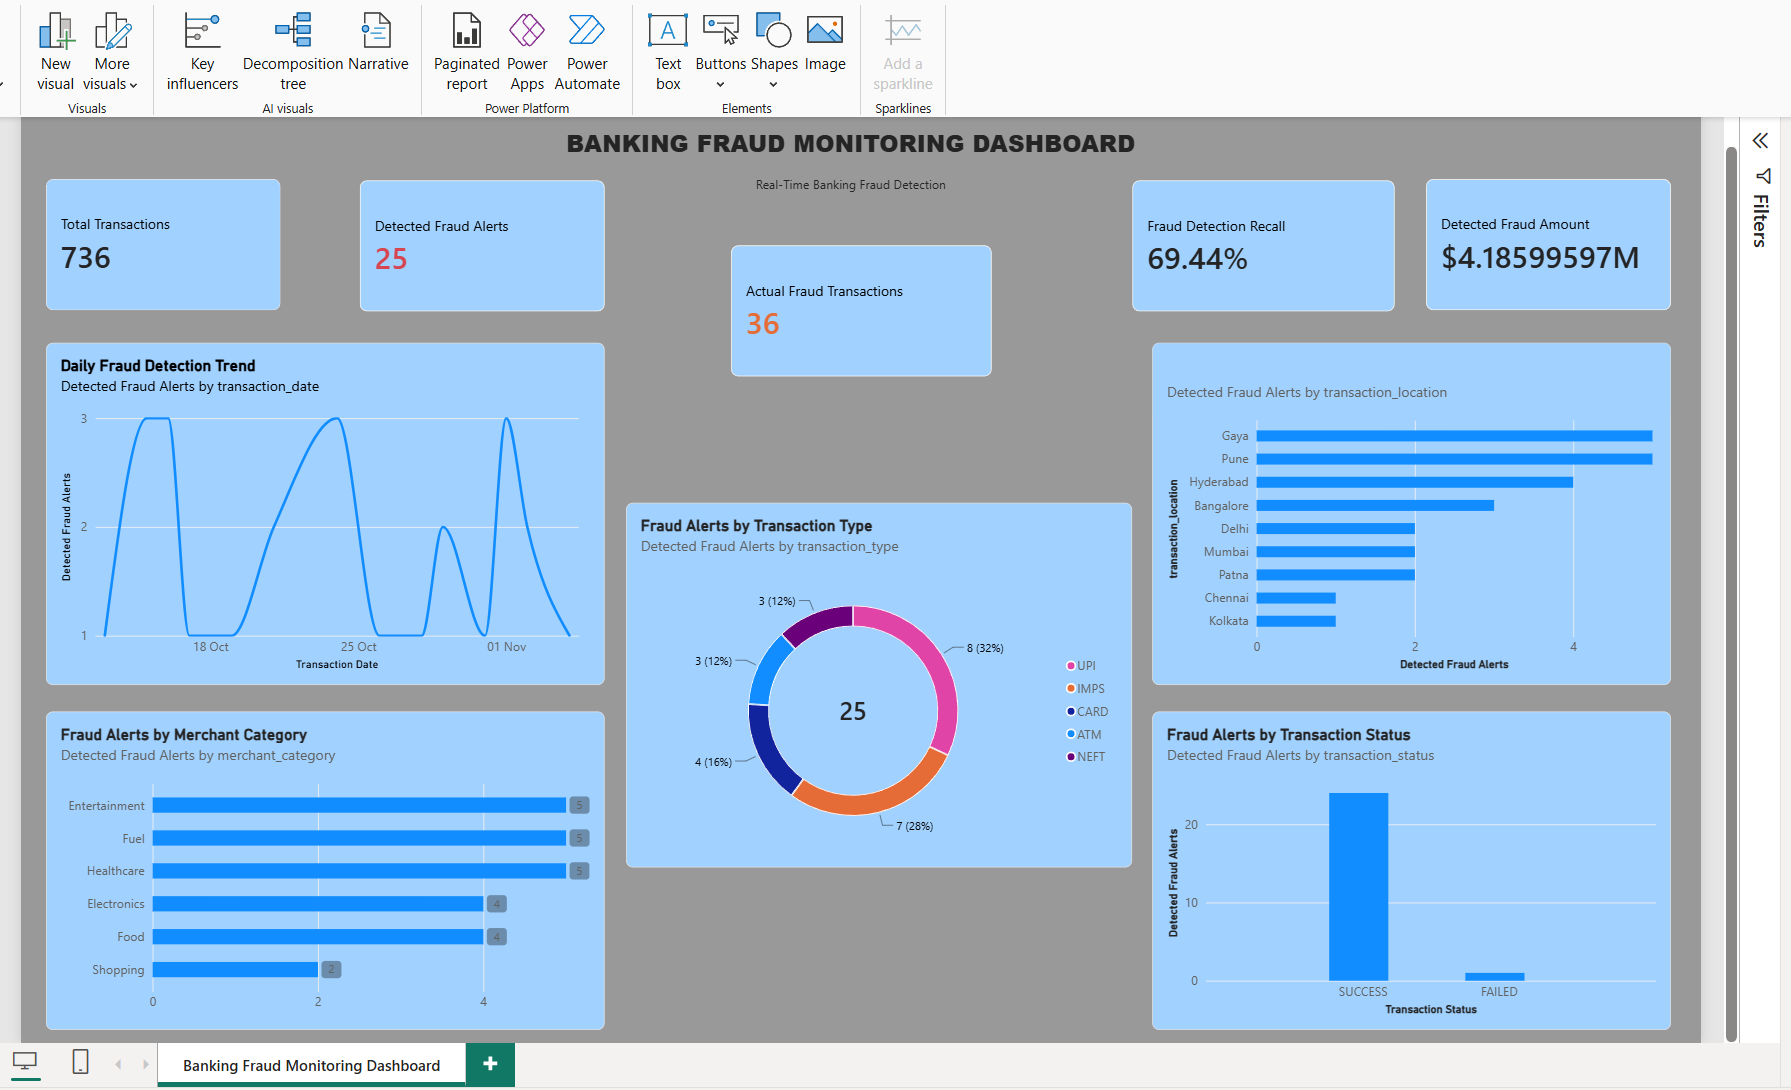

Layout of this report page (visuals, bound fields, positions):
{"tool":"powerbi","page":{"name":"Banking Fraud Monitoring Dashboard","canvas":[1920,1080],"ordinal":0},"visuals":[{"type":"cardVisual","fields":{"Data":["Transactions.Total Transactions"]},"box":[28.6,91.4,268,150],"z":0},{"type":"cardVisual","fields":{"Data":["Transactions.Detected Fraud Alerts"]},"box":[387.1,92.9,280,150],"z":1000},{"type":"cardVisual","fields":{"Data":["Transactions.Actual Fraud Transactions"]},"box":[811.4,167.1,298,150],"z":2000},{"type":"cardVisual","fields":{"Data":["Transactions.Fraud Detection Recall"]},"box":[1270,92.9,300,150],"z":3000},{"type":"cardVisual","fields":{"Data":["Transactions.Detected Fraud Amount"]},"box":[1605.7,91.4,280,150],"z":4000},{"type":"lineChart","title":"Daily Fraud Detection Trend","fields":{"Category":["Transactions.transaction_date"],"Y":["Transactions.Detected Fraud Alerts"]},"box":[28.6,278.6,638.6,391.4],"z":5000},{"type":"textbox","box":[12,32,1874,118],"z":6000},{"type":"clusteredBarChart","title":"Fraud Alerts by Merchant Category","fields":{"Category":["Transactions.merchant_category"],"Y":["Transactions.Detected Fraud Alerts"]},"box":[28.6,700,638.6,364.3],"z":7000},{"type":"clusteredBarChart","title":"Detected Fraud Alerts","fields":{"Category":["Transactions.transaction_location"],"Y":["Transactions.Detected Fraud Alerts"]},"box":[1292.9,278.6,592.9,391.4],"z":8000},{"type":"donutChart","title":"Fraud Alerts by Transaction Type","fields":{"Category":["Transactions.transaction_type"],"Y":["Transactions.Detected Fraud Alerts"]},"box":[691.4,461.4,578.6,417.1],"z":9000},{"type":"clusteredColumnChart","title":"Fraud Alerts by Transaction Status","fields":{"Category":["Transactions.transaction_status"],"Y":["Transactions.Detected Fraud Alerts"]},"box":[1292.9,700,592.9,364.3],"z":10000}]}

Visuals, with their boxes in screenshot pixels (x1, y1, x2, y2):
cardVisual - Transactions.Total Transactions: locate(17, 168, 264, 306)
cardVisual - Transactions.Detected Fraud Alerts: locate(347, 169, 604, 307)
cardVisual - Transactions.Actual Fraud Transactions: locate(737, 238, 1011, 376)
cardVisual - Transactions.Fraud Detection Recall: locate(1159, 169, 1435, 307)
cardVisual - Transactions.Detected Fraud Amount: locate(1468, 168, 1725, 306)
"Daily Fraud Detection Trend" lineChart: locate(17, 340, 604, 700)
textbox: locate(2, 113, 1726, 222)
"Fraud Alerts by Merchant Category" clusteredBarChart: locate(17, 728, 604, 1063)
"Detected Fraud Alerts" clusteredBarChart: locate(1180, 340, 1725, 700)
"Fraud Alerts by Transaction Type" donutChart: locate(627, 508, 1159, 892)
"Fraud Alerts by Transaction Status" clusteredColumnChart: locate(1180, 728, 1725, 1063)
